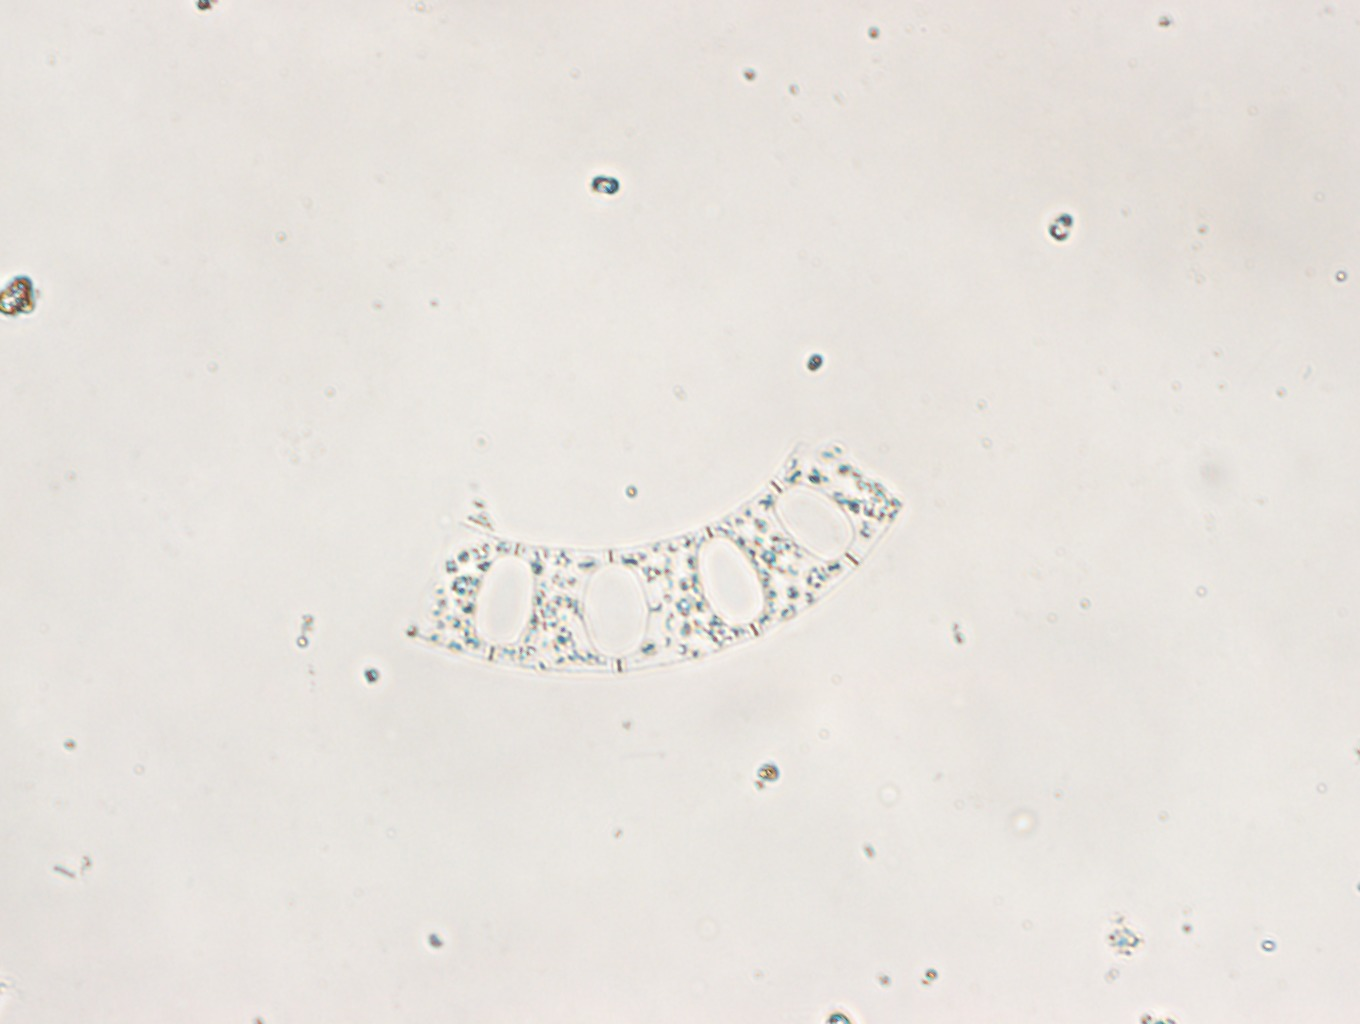eucampia: (391, 431, 900, 678)
